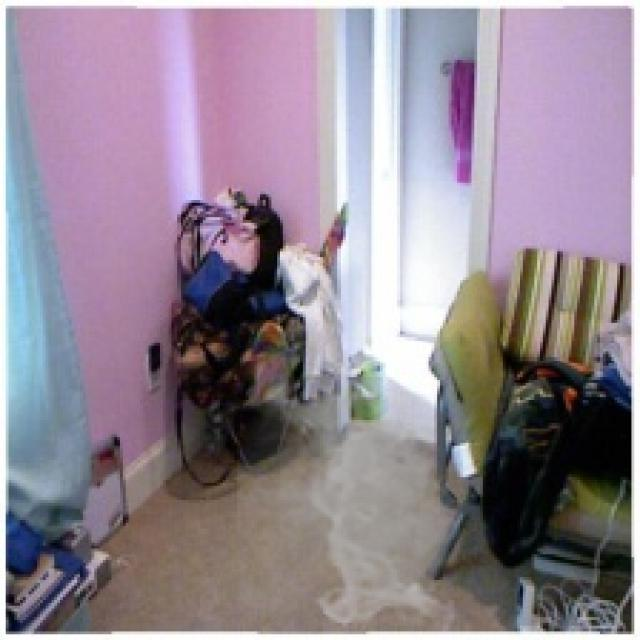Smoke: (237, 372, 469, 632)
